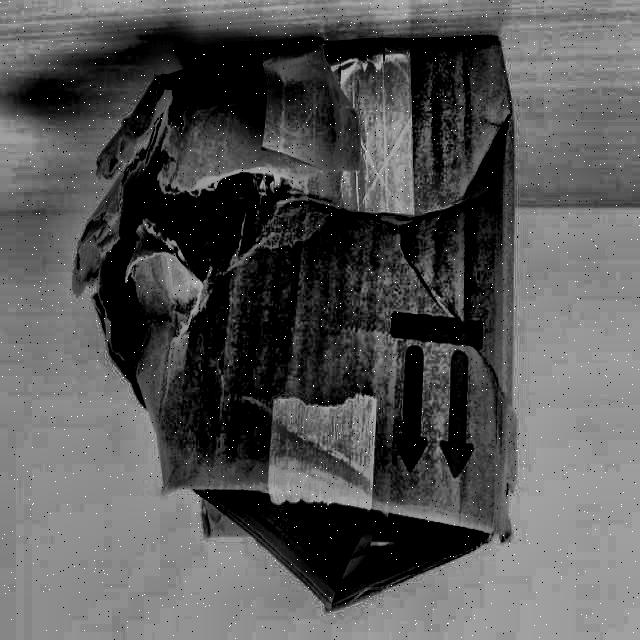box: (72, 31, 541, 618)
hole: (67, 125, 263, 401)
